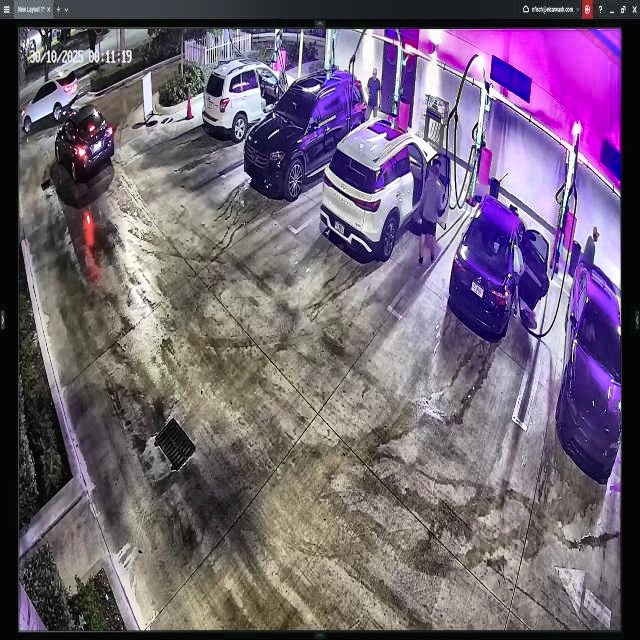Car: (323, 119, 447, 261), (245, 72, 367, 196), (448, 196, 550, 336), (202, 62, 298, 139)
